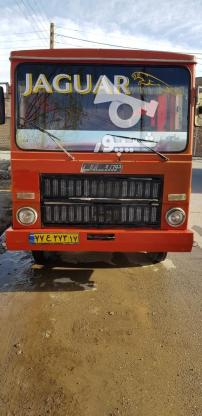car: (27, 231, 78, 245)
